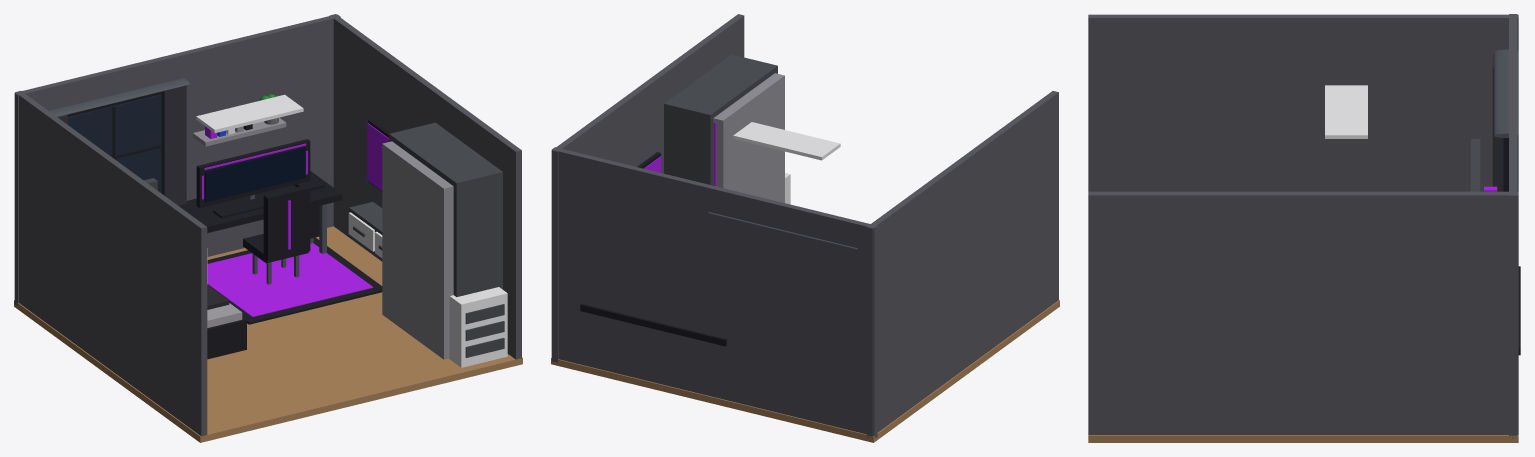
File: BEDROOM.glb
3 renders of one model, left to right at view 1: azimuth 30°, elevation 25°; view 2: azimuth 150°, elevation 25°; view 3: azimuth 270°, elevation 25°, orthographic. The views are drawn at different scales.
Parts seen in each view (by area): view 1: LEFT_WALL, FLOOR, BACK_WALL, RIGHT_WALL, WARDROBE_DOOR_1, WARDROBE_BODY, WORK_RUG_BORDER, WINDOW_GLASS, MONITOR_SCREEN, CHAIR_BACK, DRAWER_UNIT, CURTAIN_RIGHT (+14 smaller); view 2: BACK_WALL, LEFT_WALL, RIGHT_WALL, WARDROBE_BODY, WARDROBE_DOOR_1, FLOOR, CEILING_LIGHT, GAMING_DESK; view 3: RIGHT_WALL, LEFT_WALL, BACK_WALL, FLOOR, CEILING_LIGHT, CURTAIN_ROD, BED_HEADBOARD, CURTAIN_RIGHT.
Part boxes in pixels (box(x1,y1,x2,y2)): LEFT_WALL: box(15, 91, 207, 436); FLOOR: box(14, 226, 522, 442); BACK_WALL: box(14, 14, 340, 305); RIGHT_WALL: box(329, 14, 521, 359); WARDROBE_DOOR_1: box(382, 141, 453, 359); WARDROBE_BODY: box(389, 122, 502, 296); WORK_RUG_BORDER: box(207, 243, 373, 317); WINDOW_GLASS: box(68, 94, 161, 192); MONITOR_SCREEN: box(205, 147, 305, 202); CHAIR_BACK: box(263, 185, 310, 261); DRAWER_UNIT: box(449, 287, 507, 367); CURTAIN_RIGHT: box(161, 85, 186, 205); BACK_WALL: box(551, 147, 877, 438); LEFT_WALL: box(866, 91, 1058, 437); RIGHT_WALL: box(552, 14, 744, 362); WARDROBE_BODY: box(664, 54, 777, 185); WARDROBE_DOOR_1: box(713, 73, 784, 202); FLOOR: box(551, 300, 1059, 442); CEILING_LIGHT: box(733, 122, 840, 160); GAMING_DESK: box(580, 304, 726, 346); RIGHT_WALL: box(1088, 191, 1518, 434); LEFT_WALL: box(1088, 14, 1518, 191); BACK_WALL: box(1509, 14, 1517, 438); FLOOR: box(1088, 435, 1518, 442); CEILING_LIGHT: box(1325, 85, 1367, 138); CURTAIN_ROD: box(1494, 49, 1518, 137); BED_HEADBOARD: box(1470, 139, 1480, 191); CURTAIN_RIGHT: box(1494, 137, 1502, 191).
Bounding box in the file's own units: 8 × 5.08 × 8.04.
